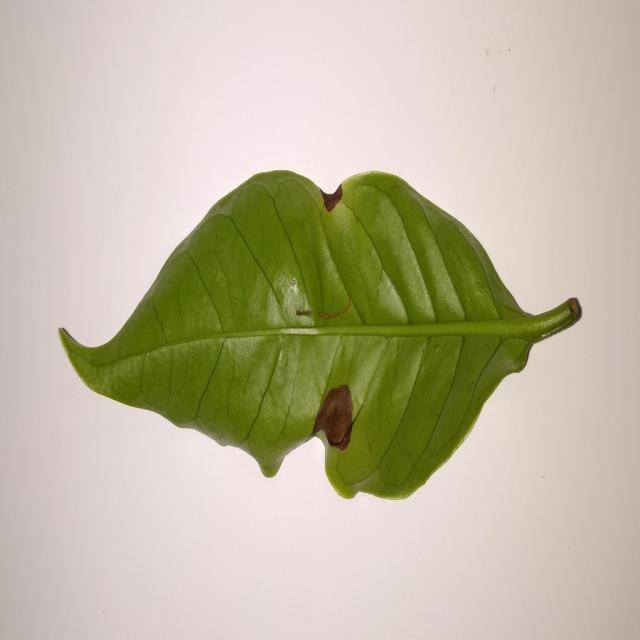phoma: (312, 384, 353, 451), (320, 184, 342, 211)
